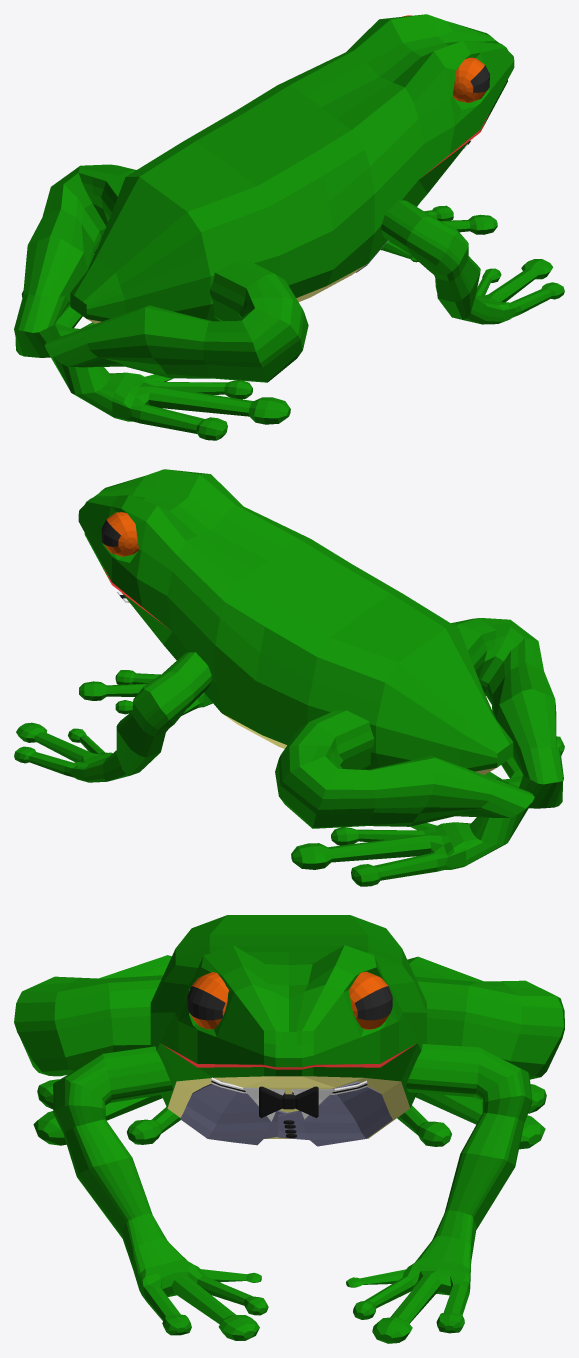
File: Frog.fbx
The picture shows the model from 3 angles, top to bottom: view 1: azimuth 30°, elevation 25°; view 2: azimuth 150°, elevation 25°; view 3: azimuth 270°, elevation 25°; orthographic projection. The views are drawn at different scales.
Parts seen in each view (by area): view 1: Frog; view 2: Frog; view 3: Frog, Gilet, Bowtie, Collar.
Part boxes in pixels (box(x1,y1,x2,y2)): Frog: box(14, 14, 564, 440); Frog: box(14, 469, 564, 886); Frog: box(14, 915, 564, 1343); Gilet: box(180, 1080, 392, 1146); Bowtie: box(259, 1086, 318, 1117); Collar: box(211, 1077, 367, 1121).
Size of the model in its own units: 462 by 236 by 341.
